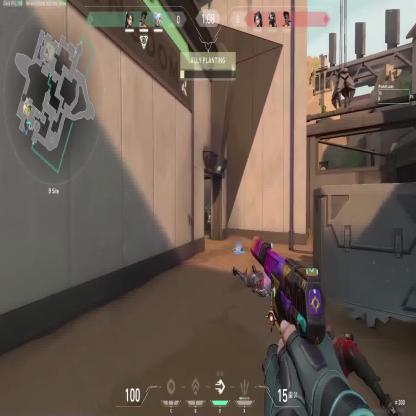enemy: (206, 206, 212, 230), (209, 208, 211, 213)
